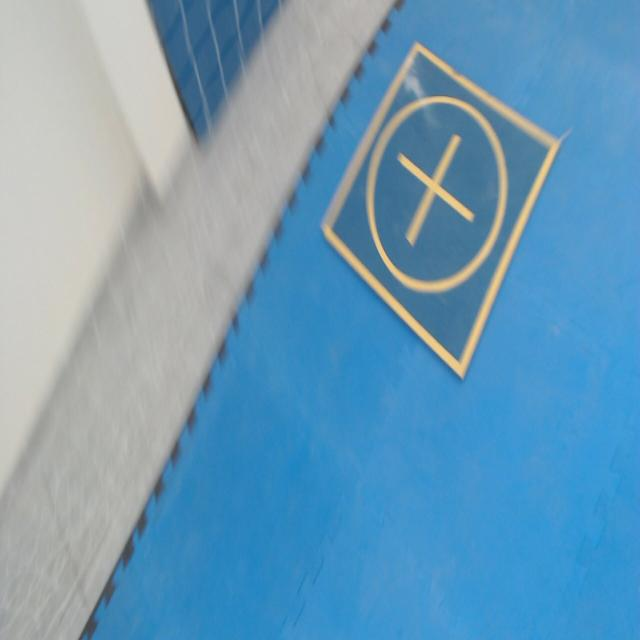base_pouso: (318, 36, 565, 383)
